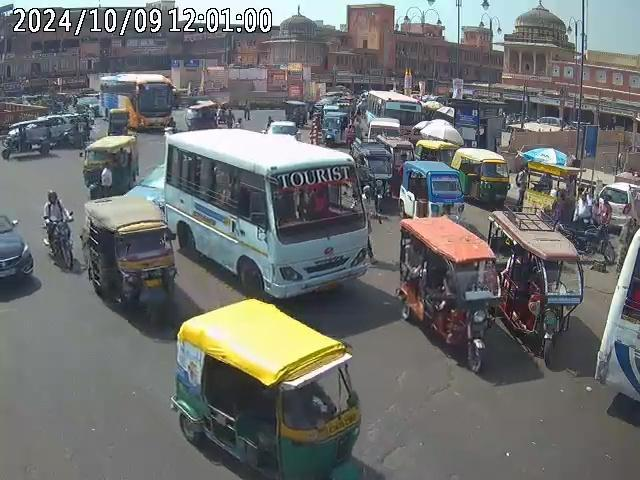auto: (166, 294, 362, 479), (388, 224, 502, 373), (484, 209, 587, 365), (79, 193, 178, 322), (398, 159, 465, 225), (81, 134, 139, 200), (349, 137, 395, 209), (0, 115, 55, 160), (321, 106, 349, 144), (107, 107, 130, 134)
bus: (158, 128, 374, 302), (596, 222, 640, 404), (100, 73, 173, 130), (363, 89, 423, 132)
car: (0, 190, 36, 290), (597, 181, 636, 226)
motorbike-rider: (39, 190, 75, 271)
